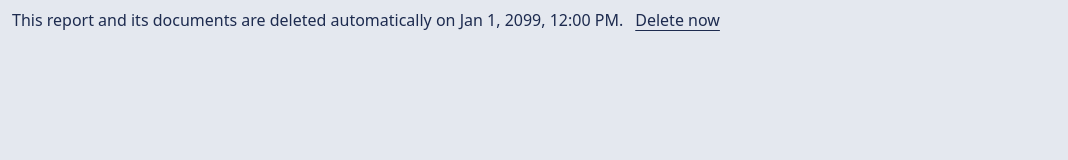
Scenario: deleting a report › says so when the report could not be deleted, and keeps it listed
Click the button "Delete now": (678, 20) 635,8 -> 720,32
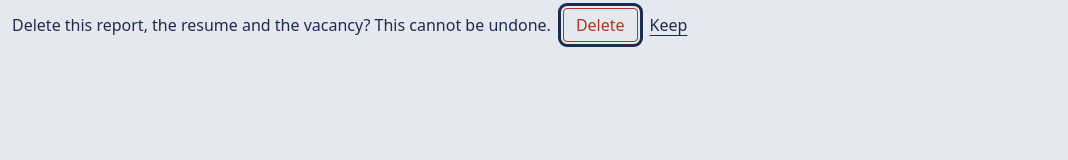
Click the button "Delete": (600, 25) 563,8 -> 638,42
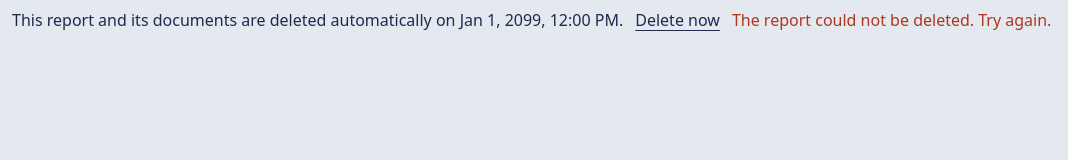
Expected: the message reads "The report could not be deleted. Try again.", 732,9 -> 1051,31
Expected: the button "Delete now" is shown, 635,8 -> 720,32
